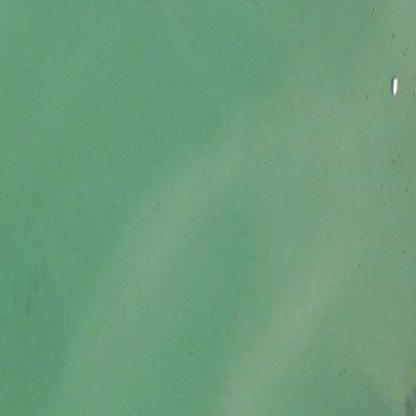ship: (373, 76, 382, 96)
